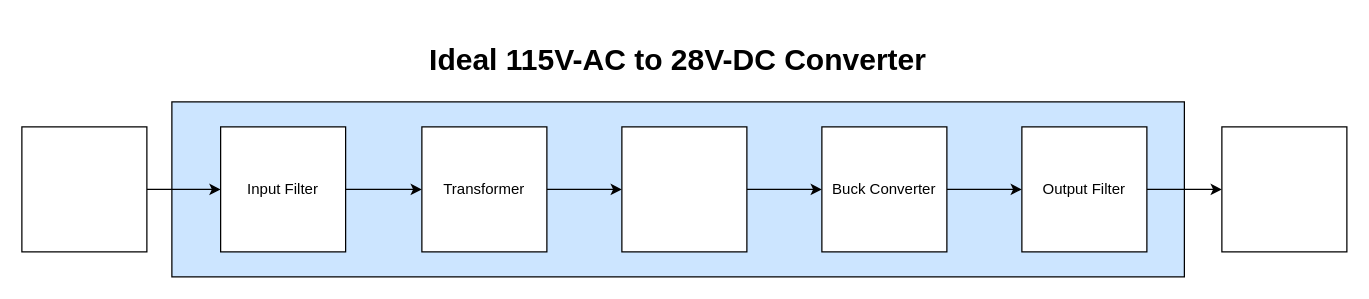
This 1369x299 diagram has some shape labels left out. The centre of each missing label's shape, as x and y in pixels:
"115V-AC Input" belongs at pixel 84 189.
"28V-DC Output" belongs at pixel 1284 189.
"Full-Wave Rectifier" belongs at pixel 684 189.
